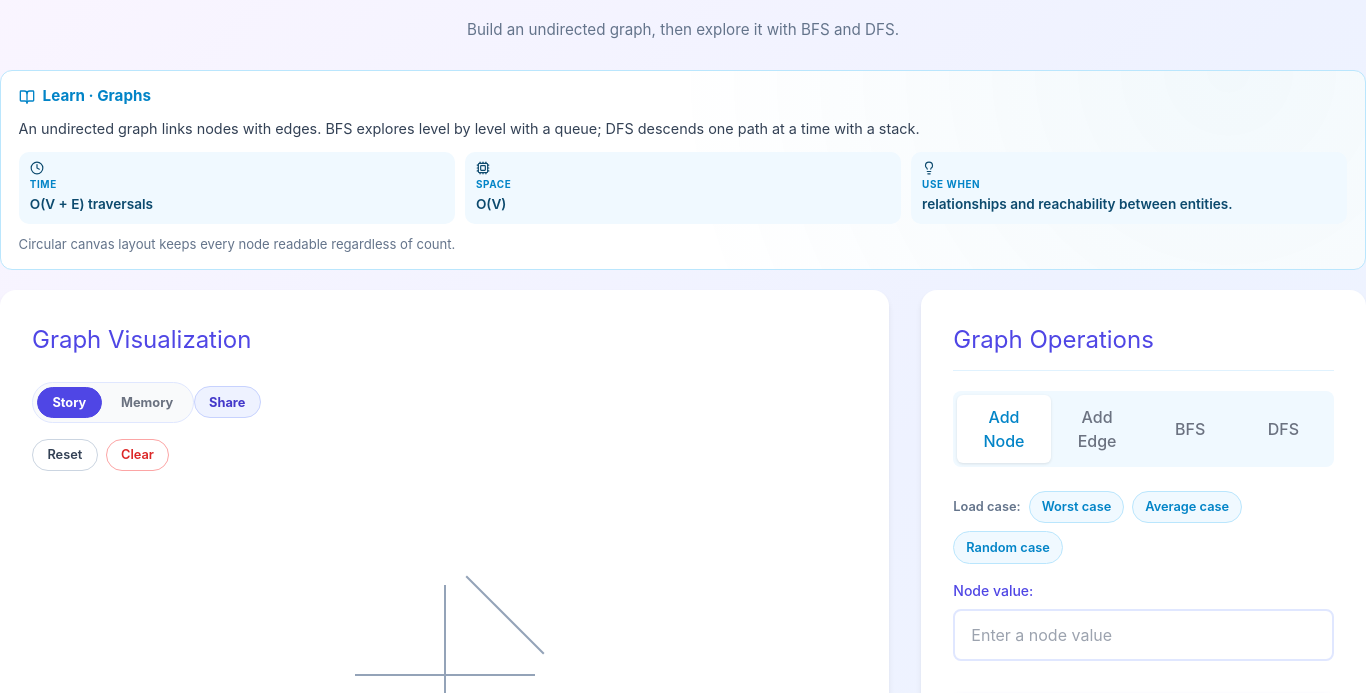
Test: Graph › switching to BFS swaps the input and button
Click the button "BFS".
click(1190, 429)  # box [1144,395,1237,463]
(page scrolled)
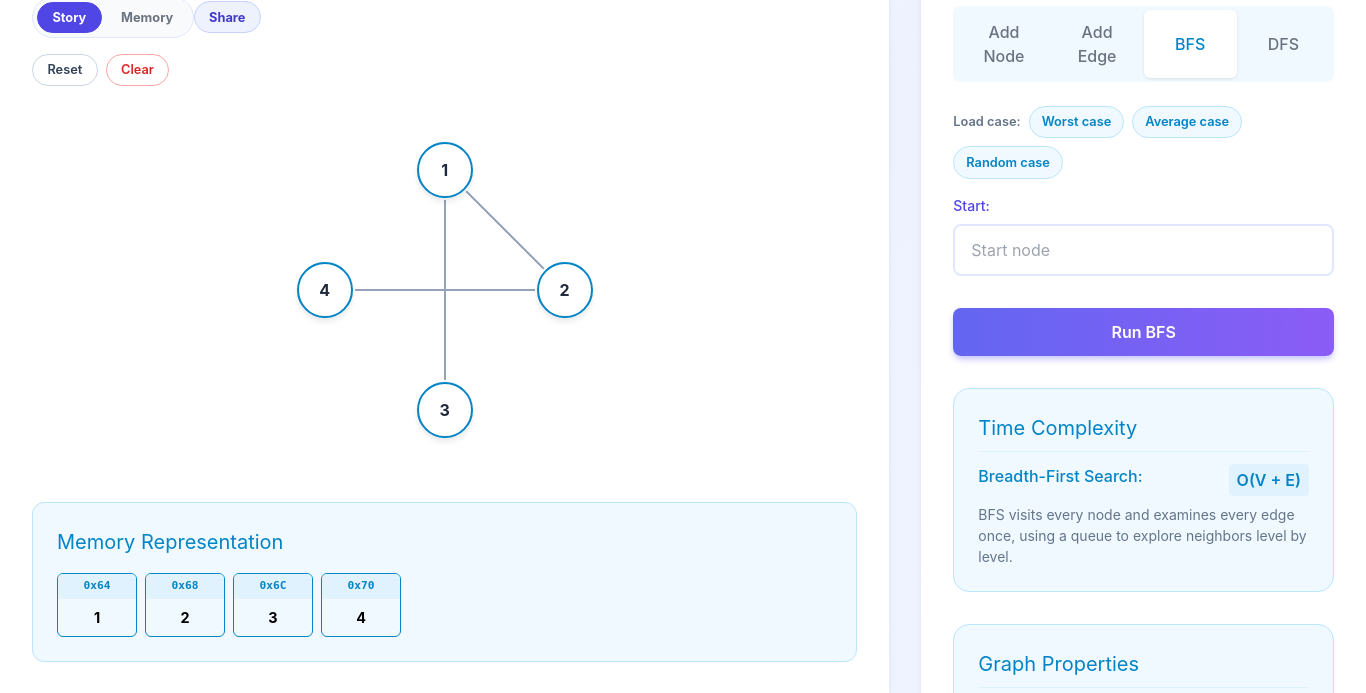
expect the number field with placeholder "Start node" is shown: met, box [953,224,1334,276]
expect the button "Run BFS" is shown: met, box [953,308,1334,356]
